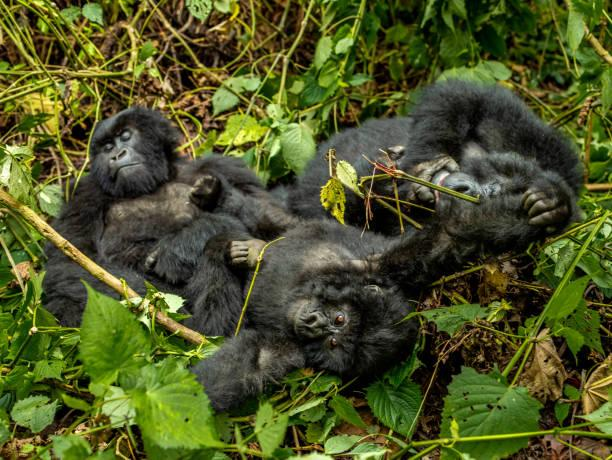goriile_montagne: (371, 70, 593, 268), (53, 106, 247, 300), (238, 215, 437, 390)
